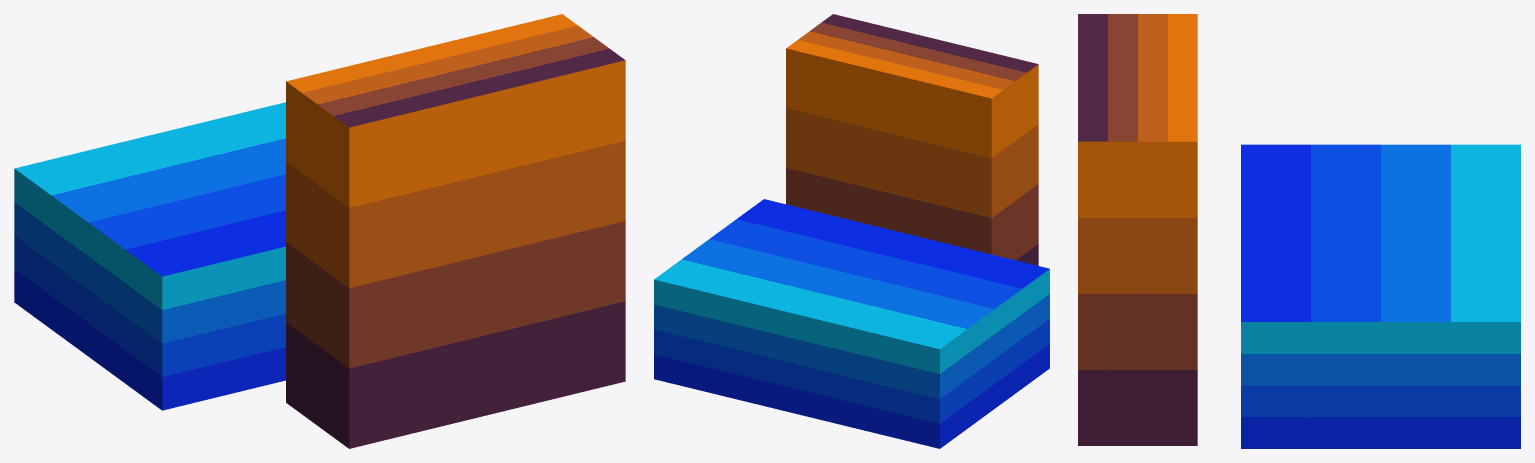
The model's file is TestTextureBox.FBX.
3 renders of one model, left to right at view 1: azimuth 30°, elevation 25°; view 2: azimuth 150°, elevation 25°; view 3: azimuth 270°, elevation 25°, orthographic. The views are drawn at different scales.
Parts seen in each view (by area): view 1: Box002, Box001; view 2: Box001, Box002; view 3: Box001, Box002.
Boxes of the visible parts, <box> form: Box002: <box>286,14,625,448</box>; Box001: <box>14,102,285,410</box>; Box001: <box>654,199,1049,448</box>; Box002: <box>786,14,1038,265</box>; Box001: <box>1241,144,1520,448</box>; Box002: <box>1078,14,1197,445</box>.
Bounding box in the file's own units: 30 × 23.98 × 31.63.
Materials: 2 (2 with a texture image).
